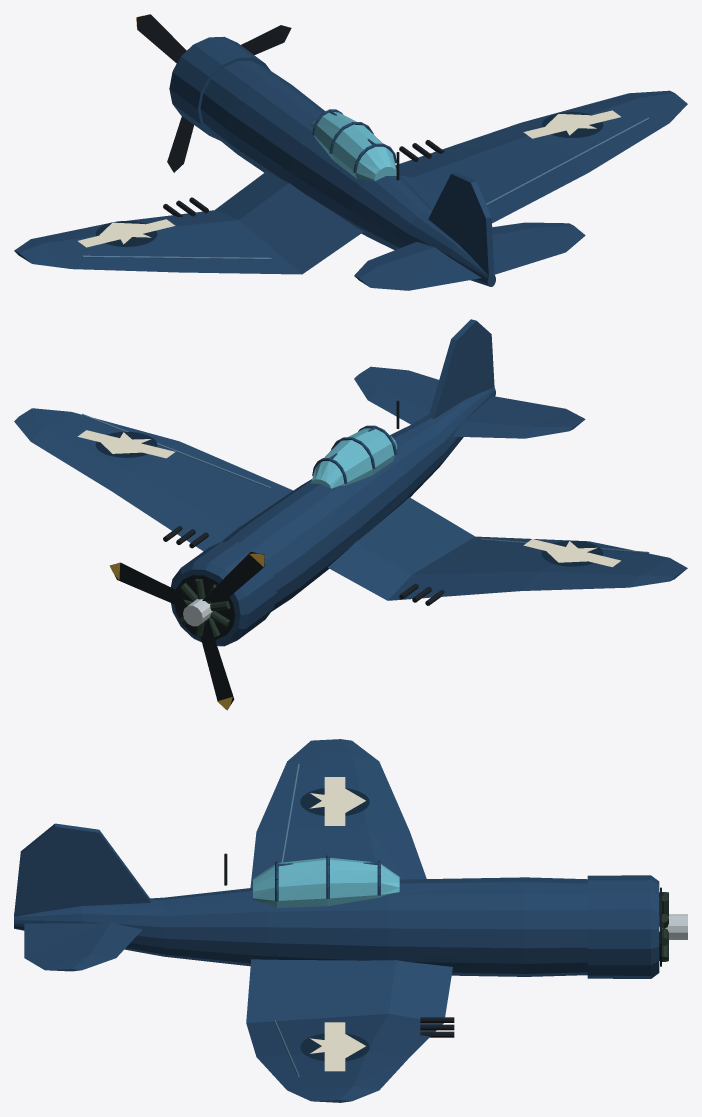
Rendered from F4U_Corsair.glb.
3 renders of one model, top to bottom at view 1: azimuth 30°, elevation 25°; view 2: azimuth 150°, elevation 25°; view 3: azimuth 270°, elevation 25°, orthographic. The views are drawn at different scales.
Visible parts, largest first — view 1: Fuselage, Left_wing, Right_wing, Tailplane (×2), Vertical_tail, Radial_cowling, Canopy_glass, Propeller, Insignia_bar (×2), US_star (×2), US_roundel (×2), Aileron_seam (×2); view 2: Left_wing, Fuselage, Right_wing, Tailplane (×2), Radial_cowling, Vertical_tail, Propeller, Canopy_glass, US_star (×2), Engine_face, US_roundel; view 3: Fuselage, Right_wing, Left_wing, Vertical_tail, Radial_cowling, Canopy_glass, Tailplane, US_star (×2), Insignia_bar (×2), US_roundel (×2).
Boxes of the visible parts, bbox=[...] form: Fuselage: bbox=[200, 60, 495, 286]; Left_wing: bbox=[14, 171, 363, 274]; Right_wing: bbox=[395, 90, 687, 223]; Tailplane (×2): bbox=[354, 222, 585, 290]; Vertical_tail: bbox=[428, 172, 494, 275]; Radial_cowling: bbox=[169, 36, 270, 140]; Canopy_glass: bbox=[310, 112, 396, 181]; Propeller: bbox=[136, 14, 291, 172]; Insignia_bar (×2): bbox=[78, 110, 620, 247]; US_star (×2): bbox=[99, 114, 596, 244]; US_roundel (×2): bbox=[95, 112, 603, 246]; Aileron_seam (×2): bbox=[82, 117, 649, 259]; Left_wing: bbox=[328, 497, 687, 600]; Fuselage: bbox=[222, 388, 495, 611]; Right_wing: bbox=[14, 408, 293, 551]; Tailplane (×2): bbox=[354, 366, 585, 438]; Radial_cowling: bbox=[171, 541, 276, 646]; Vertical_tail: bbox=[428, 319, 494, 419]; Propeller: bbox=[111, 551, 264, 708]; Canopy_glass: bbox=[310, 428, 397, 488]; US_star (×2): bbox=[99, 432, 597, 562]; Engine_face: bbox=[175, 574, 235, 639]; US_roundel: bbox=[541, 540, 603, 566]; Fuselage: bbox=[14, 877, 587, 976]; Right_wing: bbox=[246, 959, 452, 1102]; Left_wing: bbox=[250, 739, 426, 887]; Vertical_tail: bbox=[14, 823, 150, 916]; Radial_cowling: bbox=[587, 875, 659, 978]; Canopy_glass: bbox=[253, 858, 399, 907]; Tailplane: bbox=[24, 923, 142, 971]; US_star (×2): bbox=[310, 788, 365, 1058]; Insignia_bar (×2): bbox=[324, 777, 345, 1071]; US_roundel (×2): bbox=[300, 788, 369, 1061].
Bounding box in the file's own units: 12.5 × 3.36 × 9.87.
